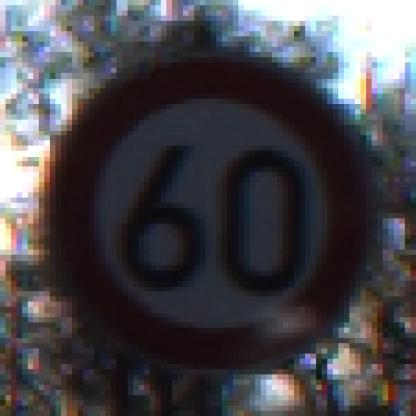Speed Limit 60: (54, 57, 370, 366)
